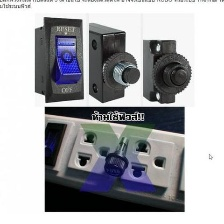three_eye_plug: (41, 112, 186, 212)
